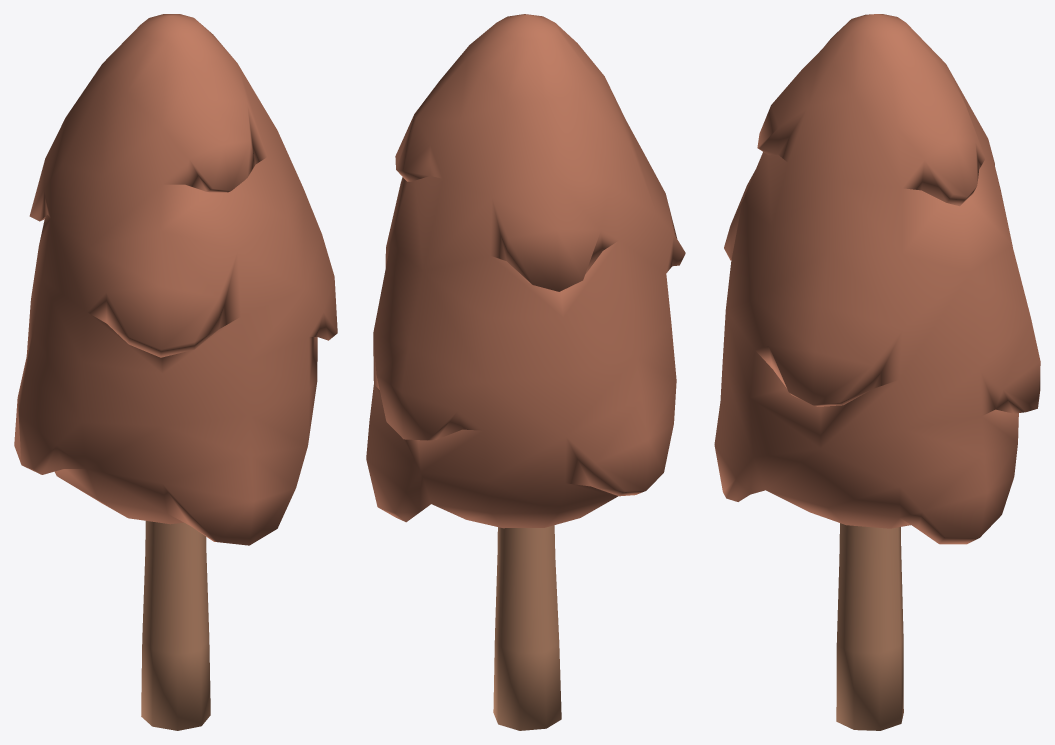
The model's file is Tree_F_03_LOD2.gltf.
The picture shows the model from 3 angles, left to right: view 1: azimuth 30°, elevation 25°; view 2: azimuth 150°, elevation 25°; view 3: azimuth 270°, elevation 25°; orthographic projection.
Parts seen in each view (by area): view 1: Tree_F_03_LOD2_Cylinder.595; view 2: Tree_F_03_LOD2_Cylinder.595; view 3: Tree_F_03_LOD2_Cylinder.595.
Boxes of the visible parts, x1,y1,x2,y2 form: Tree_F_03_LOD2_Cylinder.595: (14, 14, 337, 730); Tree_F_03_LOD2_Cylinder.595: (366, 14, 685, 730); Tree_F_03_LOD2_Cylinder.595: (714, 14, 1040, 730).
Size of the model in its own units: 5.21 by 12.66 by 5.29.
Materials: 1 (1 with a texture image).
